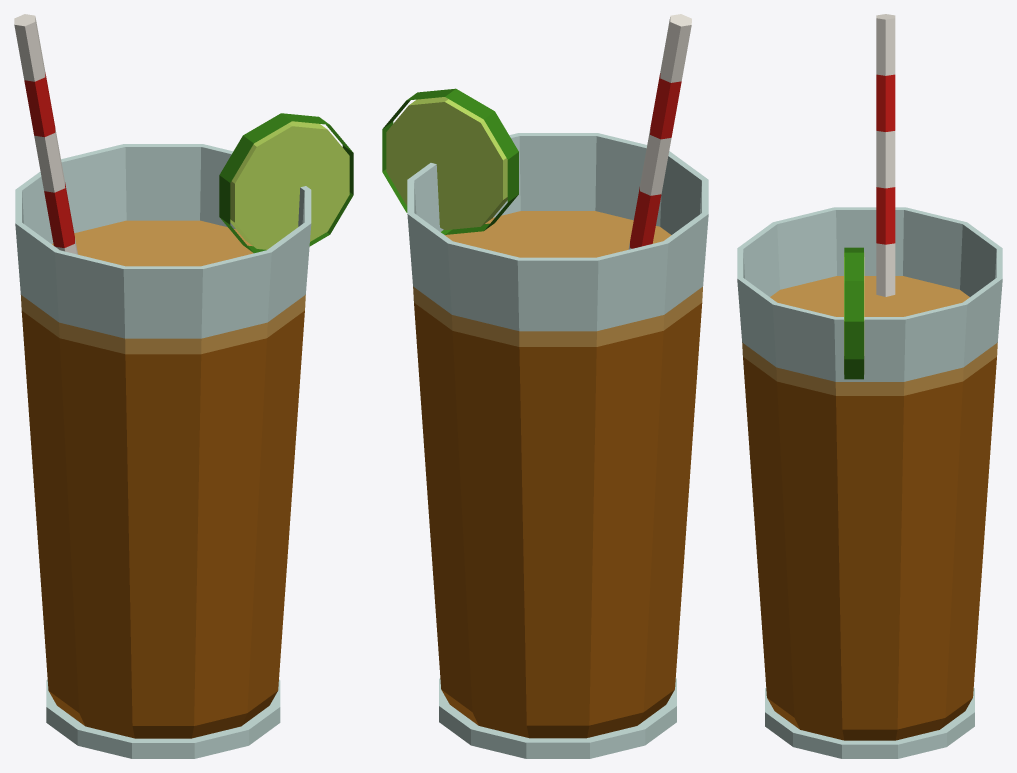
Rendered from papelon.glb.
The picture shows the model from 3 angles, left to right: view 1: azimuth 30°, elevation 25°; view 2: azimuth 150°, elevation 25°; view 3: azimuth 270°, elevation 25°; orthographic projection. The views are drawn at different scales.
Parts seen in each view (by area): view 1: papelon; view 2: papelon; view 3: papelon.
Part boxes in pixels (x1=…): papelon: x1=14, y1=14, x2=353, y2=758; papelon: x1=382, y1=14, x2=708, y2=758; papelon: x1=737, y1=14, x2=1002, y2=758.
Size of the model in its own units: 0.0829 by 0.1795 by 0.0672.
